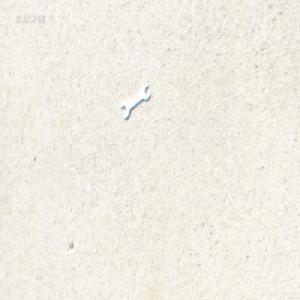Wrench: (120, 83, 151, 119)
